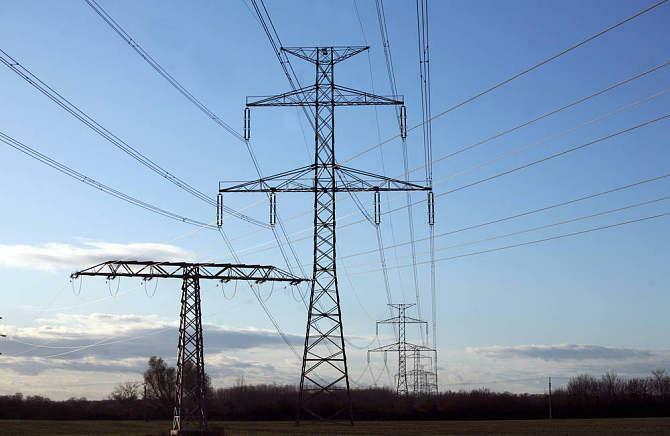power_tower: (214, 31, 432, 391), (62, 256, 308, 428), (366, 298, 433, 391)
